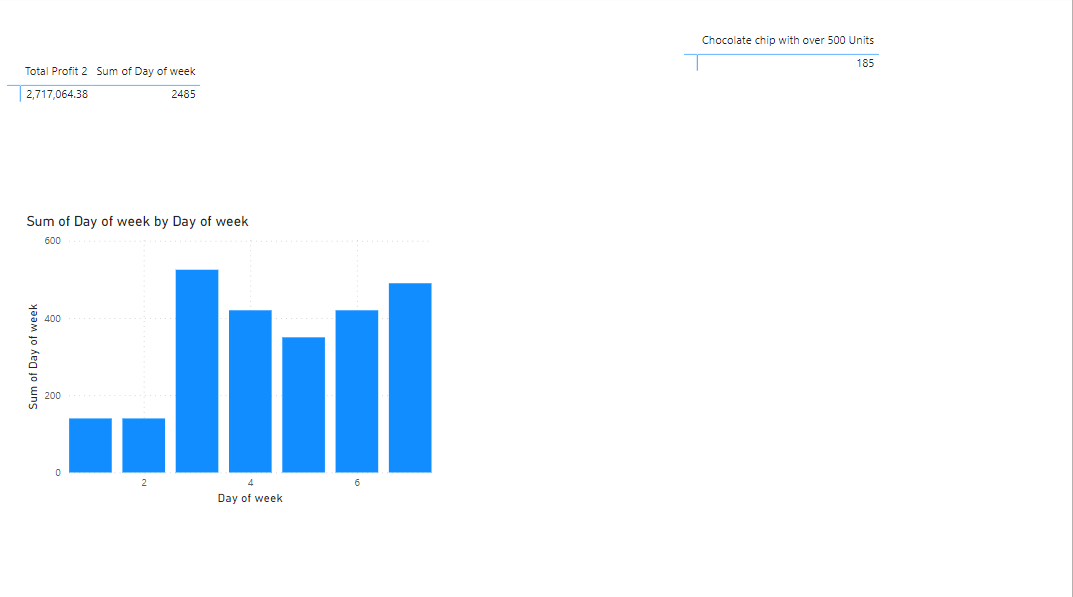

The page's visual inventory and layout, read from the dashboard file:
{"tool":"powerbi","page":{"name":"Page 2","canvas":[1280,720],"ordinal":1},"visuals":[{"type":"pivotTable","fields":{"Values":["Cookie Types.Total Profit 2","Sum(Orders.Day of week)"]},"box":[9.7,73.5,305.1,231.6],"z":0},{"type":"clusteredColumnChart","fields":{"Y":["Sum(Orders.Day of week)"],"Category":["Orders.Day of week"]},"box":[32.1,257.9,491.7,351.4],"z":1},{"type":"pivotTable","fields":{"Values":["Orders.Chocolate chip with over 500 Units"]},"box":[813.7,37.4,340.7,237.8],"z":2}]}

Visuals, with their boxes in screenshot pixels (x1, y1, x2, y2), scaled from the page's 1280x720 canvas onto the 1073x597 screenshot:
pivotTable - Cookie Types.Total Profit 2 x Sum(Orders.Day of week): 8/61/264/253
clusteredColumnChart - Sum(Orders.Day of week) x Orders.Day of week: 27/214/439/505
pivotTable - Orders.Chocolate chip with over 500 Units: 682/31/968/228
